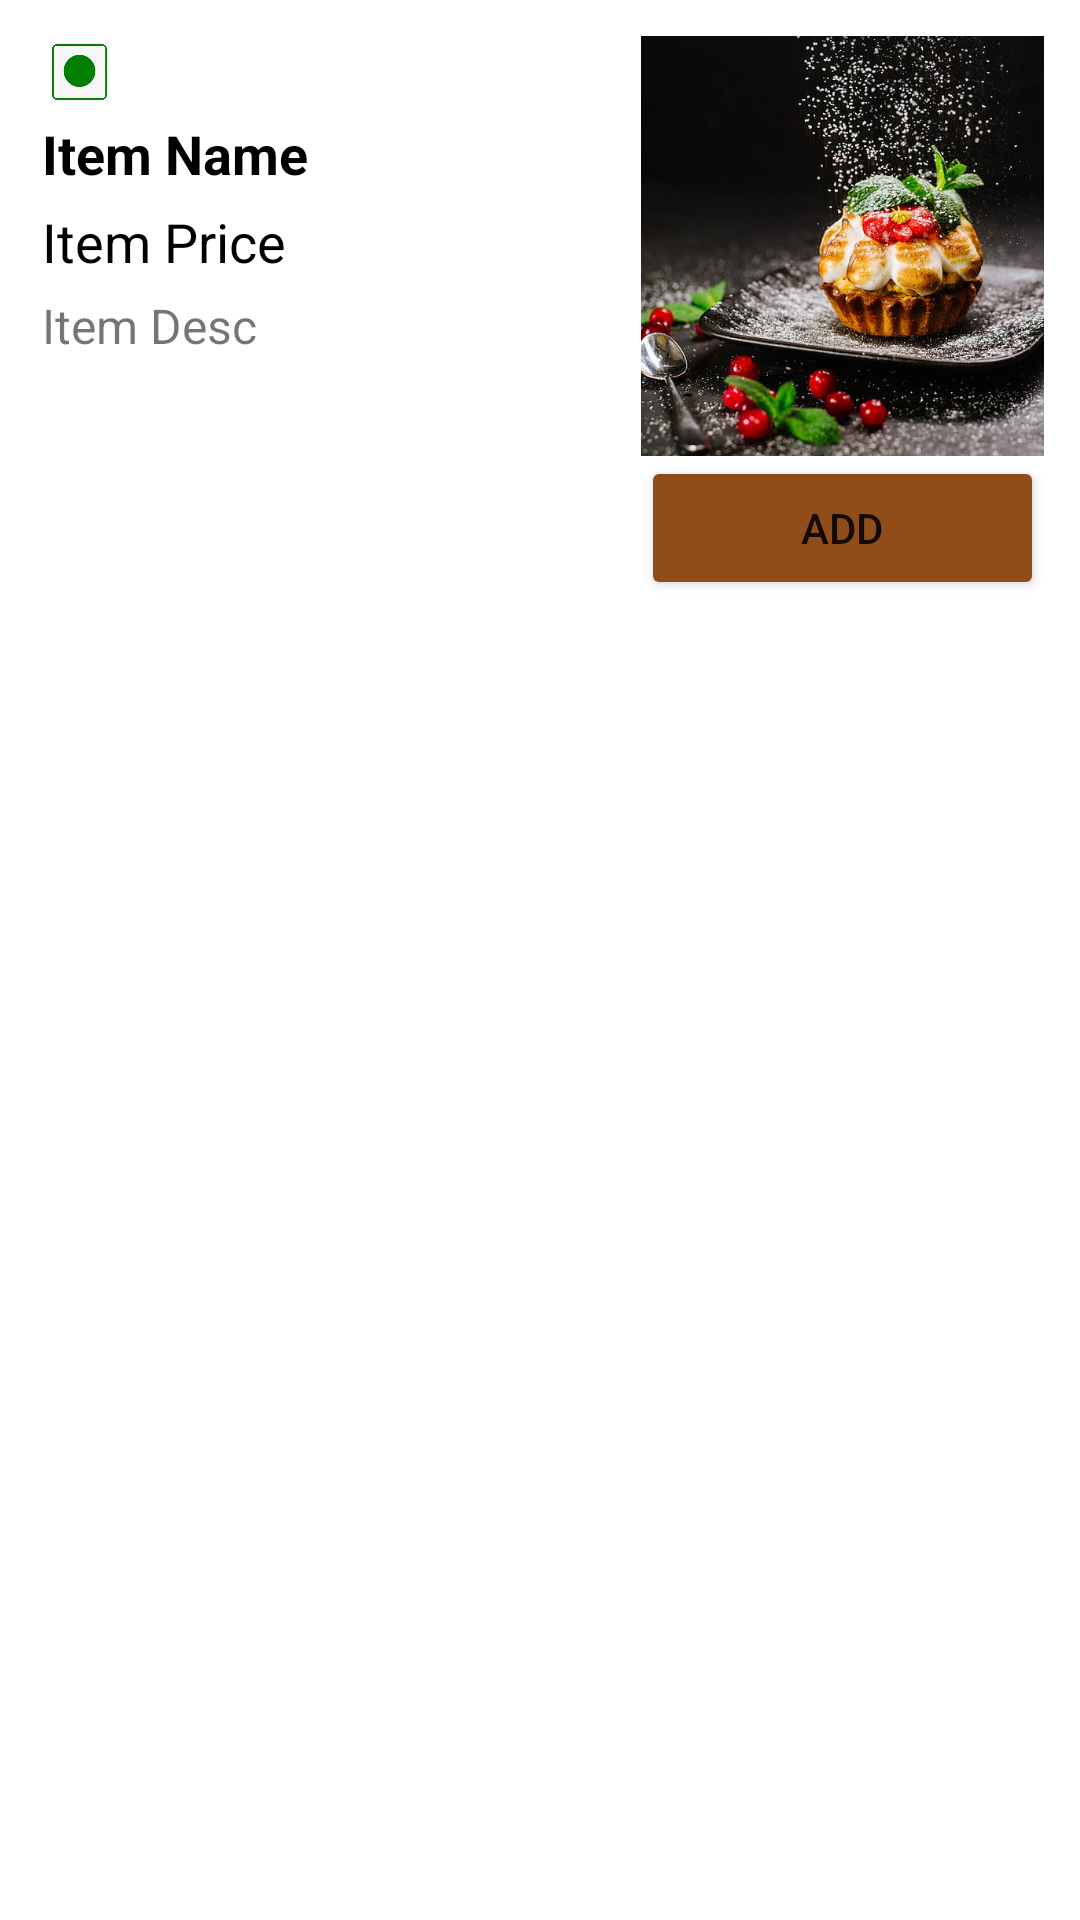

Named icons in this screenshot (1080 × 1920) and their centers, (x,y):
veg: (79,72)
